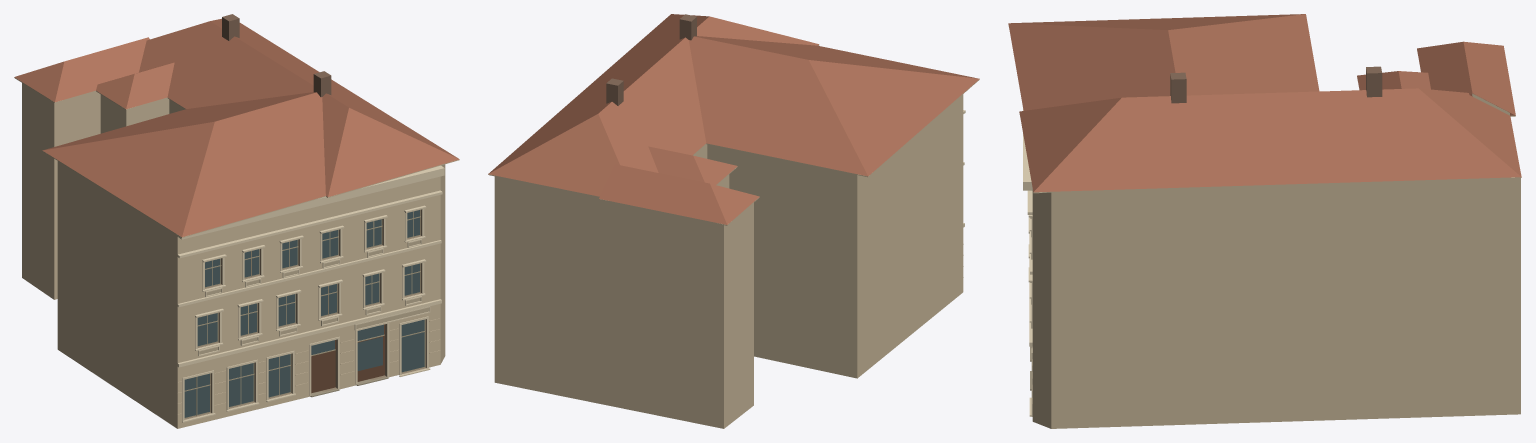
Rendered from 267-claude-pruceli-v1.glb.
The picture shows the model from 3 angles, left to right: view 1: azimuth 30°, elevation 25°; view 2: azimuth 150°, elevation 25°; view 3: azimuth 270°, elevation 25°; orthographic projection. The views are drawn at different scales.
Parts seen in each view (by area): view 1: Pruceli, Strecha, Hmota, Stresni_prvky; view 2: Hmota, Strecha, Stresni_prvky; view 3: Hmota, Strecha, Pruceli, Stresni_prvky.
Part boxes in pixels (x1,y1,x2,y2): Pruceli: [177, 165, 444, 428]; Strecha: [14, 18, 459, 237]; Hmota: [14, 77, 459, 428]; Stresni_prvky: [222, 14, 331, 97]; Hmota: [488, 45, 979, 428]; Strecha: [488, 14, 979, 224]; Stresni_prvky: [606, 14, 696, 105]; Hmota: [1008, 26, 1521, 428]; Strecha: [1008, 14, 1521, 192]; Pruceli: [1023, 108, 1032, 416]; Stresni_prvky: [1170, 66, 1382, 103].
Bounding box in the file's own units: 19.37 × 15.92 × 23.56.
